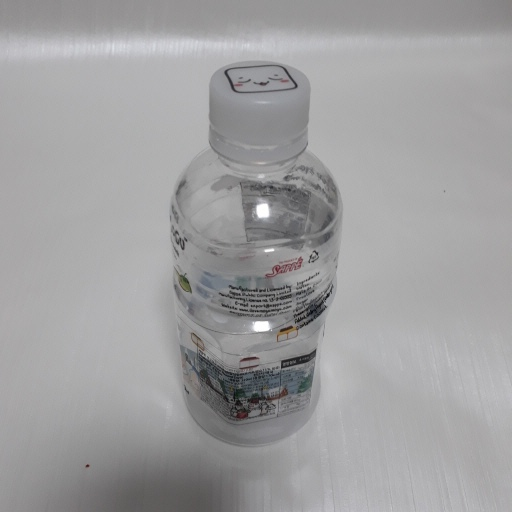Plastic_0: (166, 59, 343, 449)
